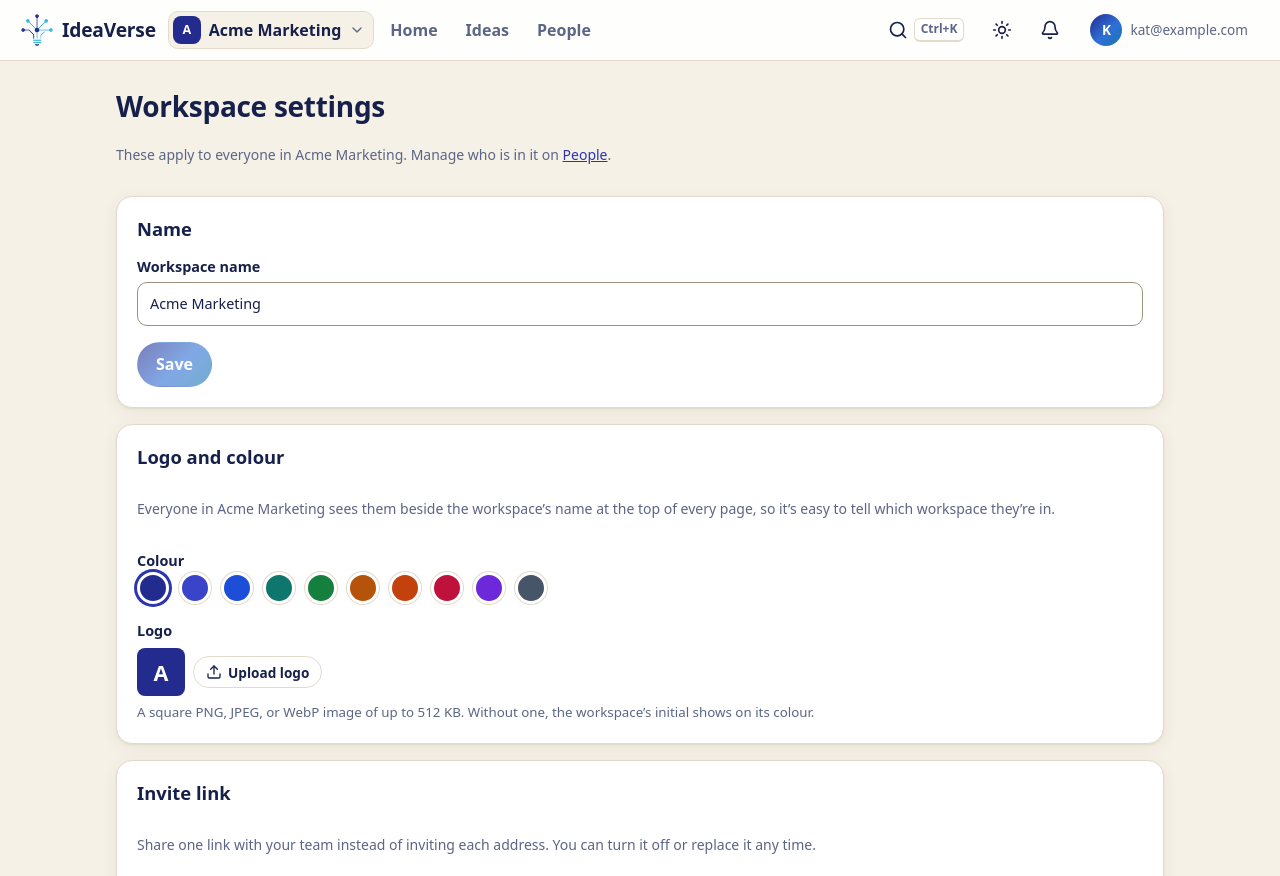
it: WorkspaceSettingsPage › renames the workspace
Expected: the button "Save" is disabled, x1=137 y1=342 x2=212 y2=387
Replace the text in the field labelled "Workspace name" with "Acme Growth" at (640, 304), box x1=137 y1=282 x2=1143 y2=326
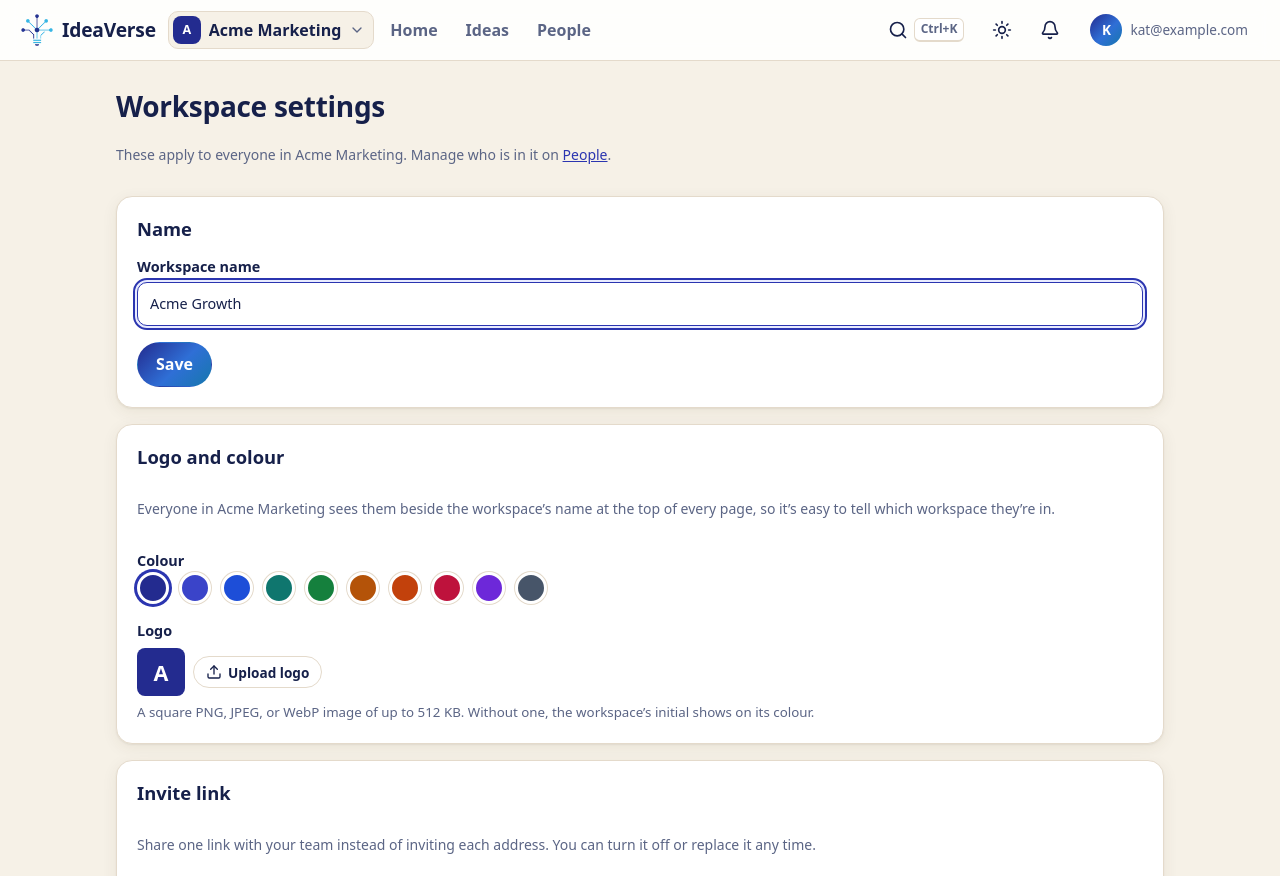
Click the button "Save" at (174, 365), box x1=137 y1=342 x2=212 y2=387
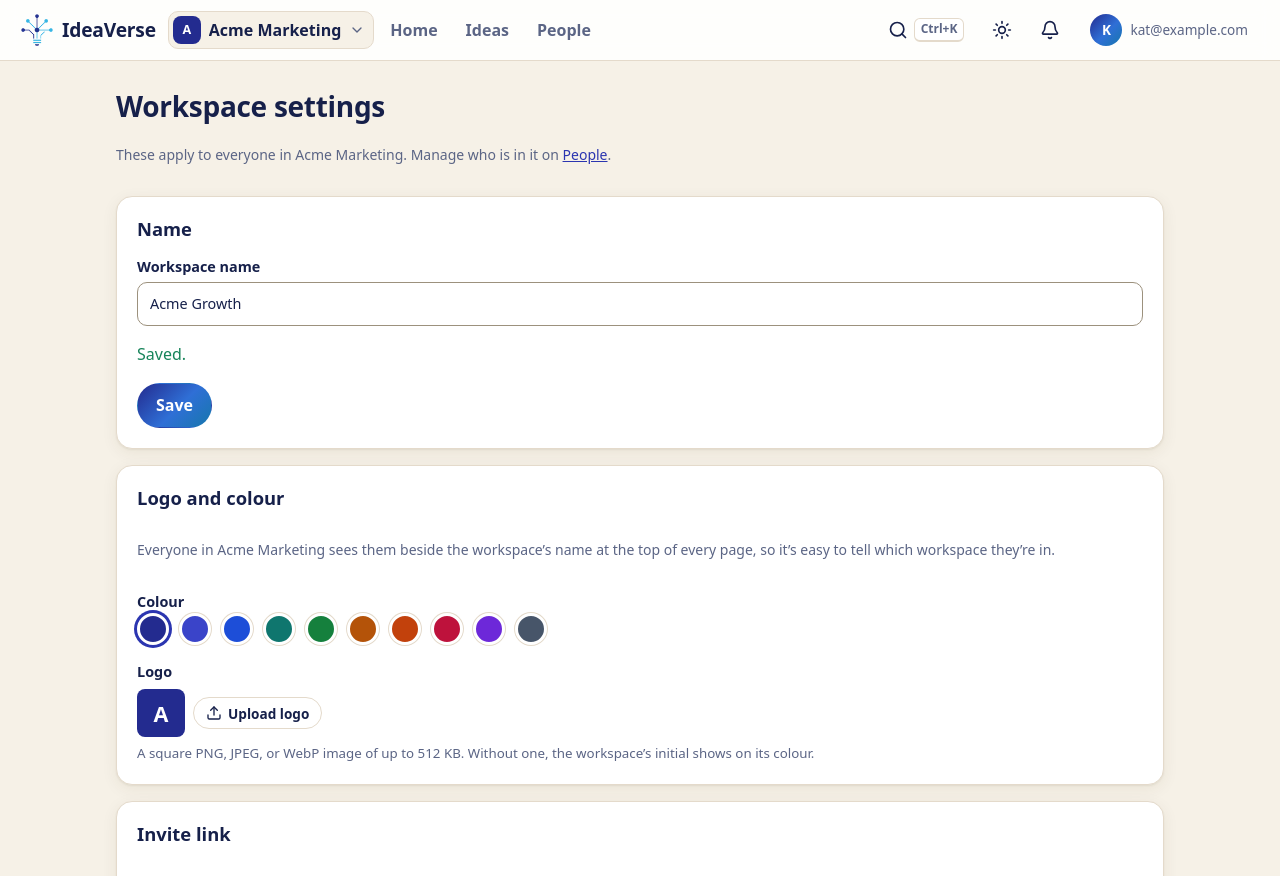
Result: the message reads "Saved." at x1=137 y1=343 x2=186 y2=365
Type " Team" into the field labelled "Workspace name" at (640, 304), box x1=137 y1=282 x2=1143 y2=326
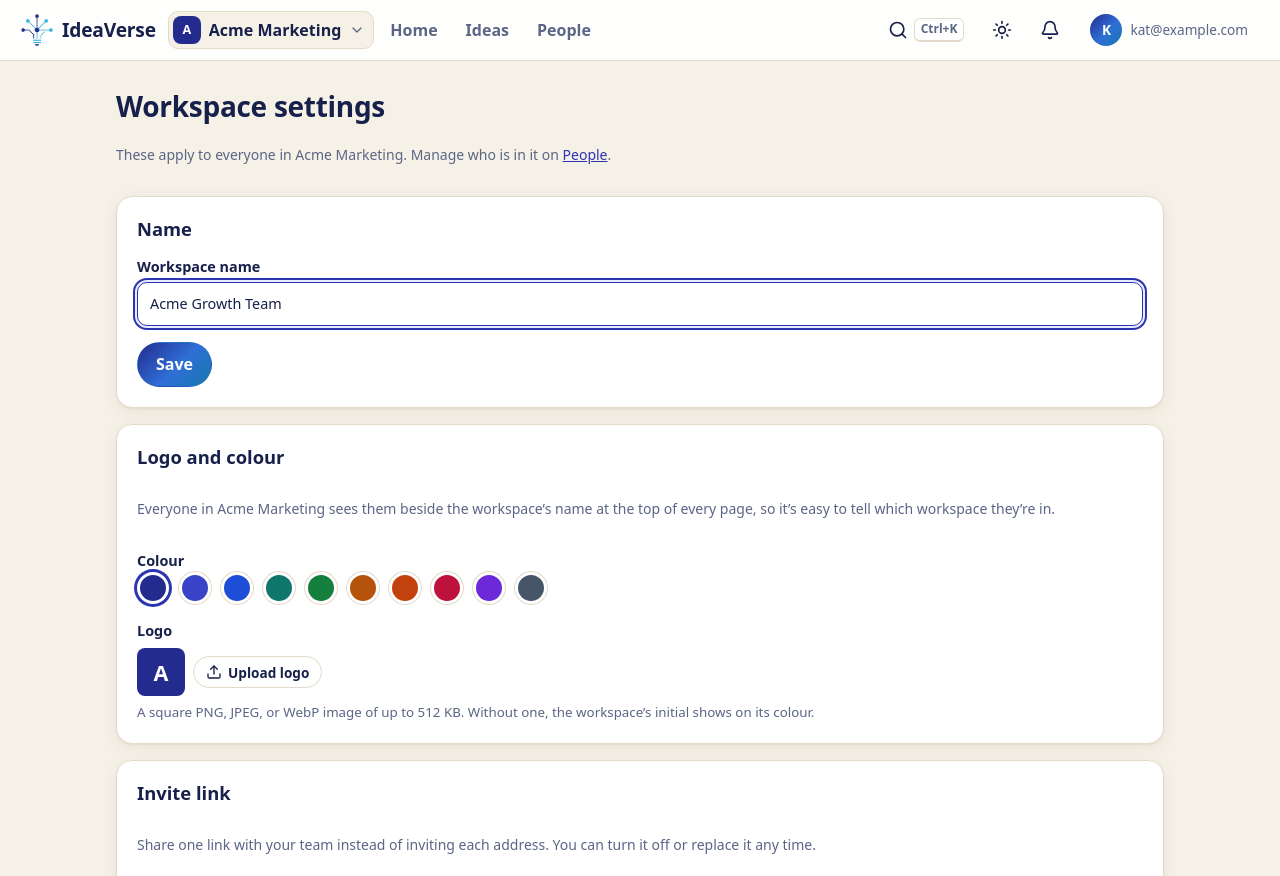
Result: the message "Saved." is gone
